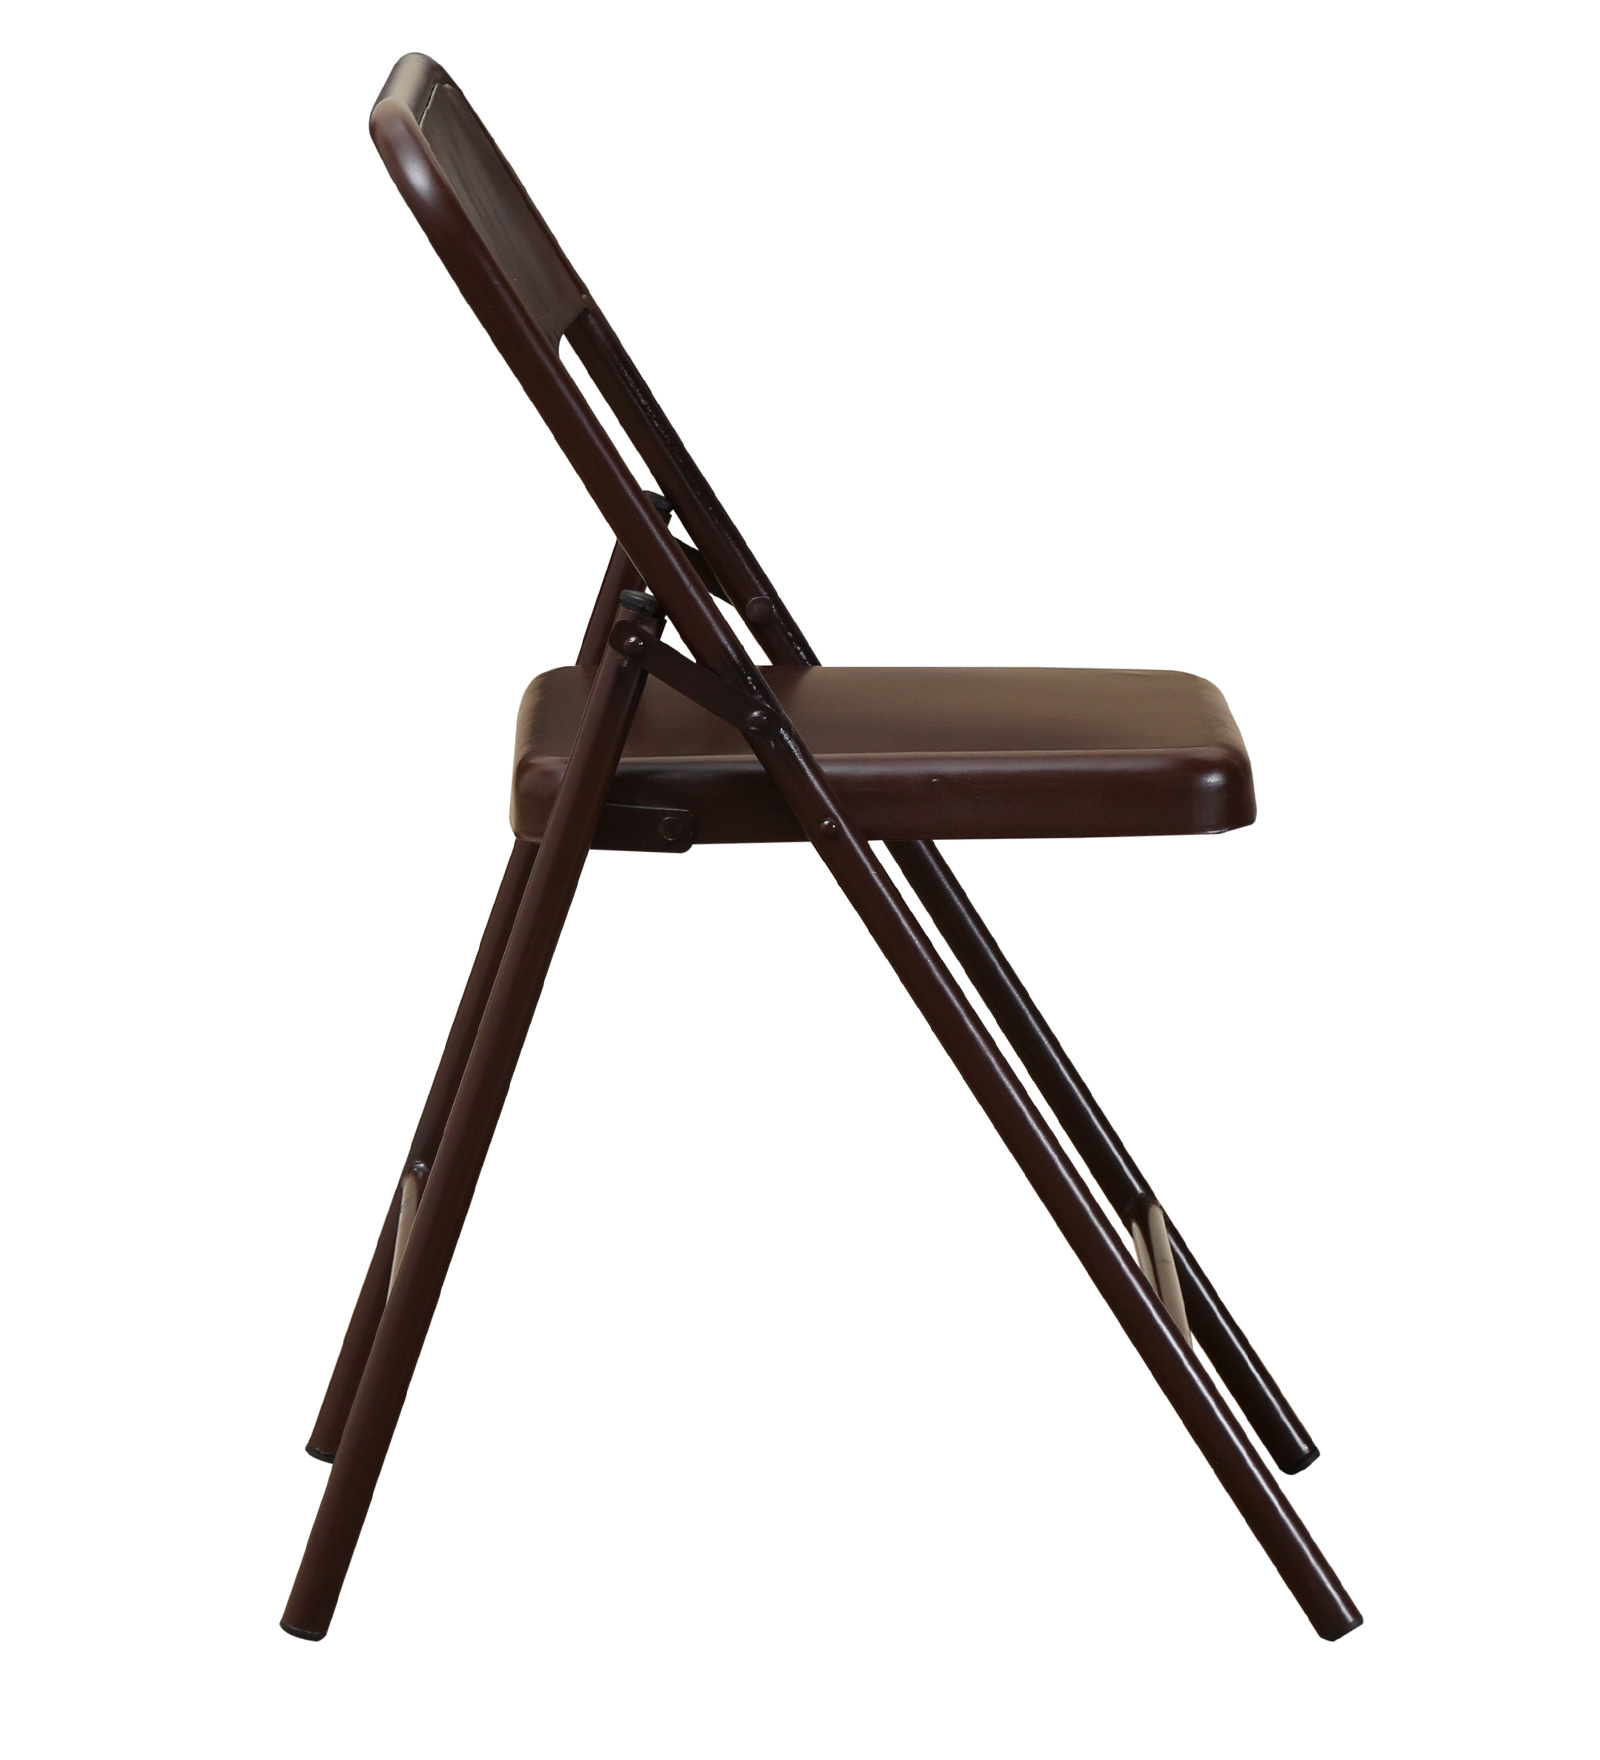Kell Folding Chair in Brown Color by Bohemiana: (251, 38, 1457, 1717)
